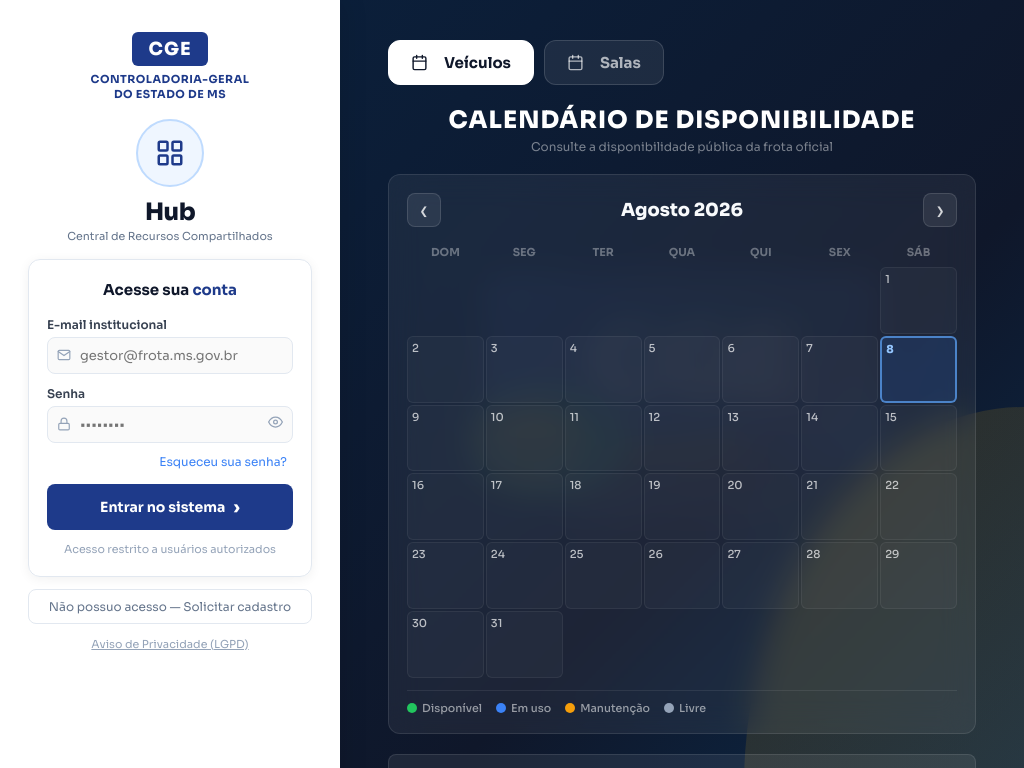
it: Login — submissão do formulário › limpa o erro ao digitar no campo de e-mail
This screenshot has width=1024, height=768.
Type "x@y.com" into the field labelled "E-mail institucional" at point(170, 355), box 47,337 -> 293,374
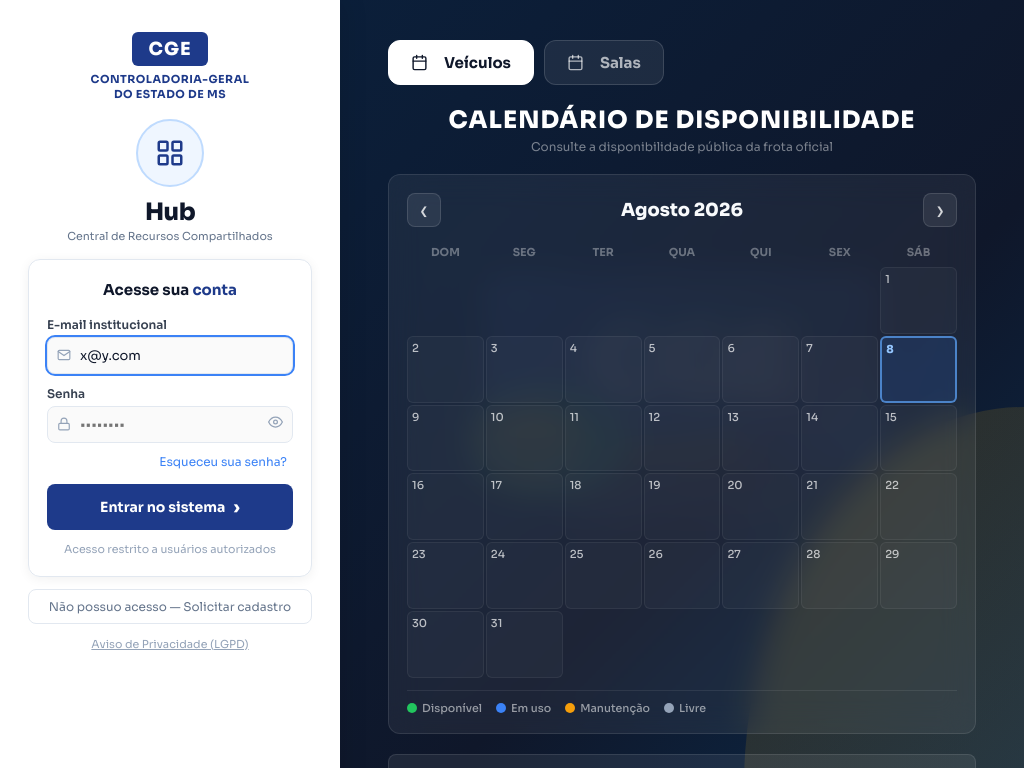
Type "wrong" into the password field labelled "Senha" at point(170, 424), box 47,406 -> 293,443
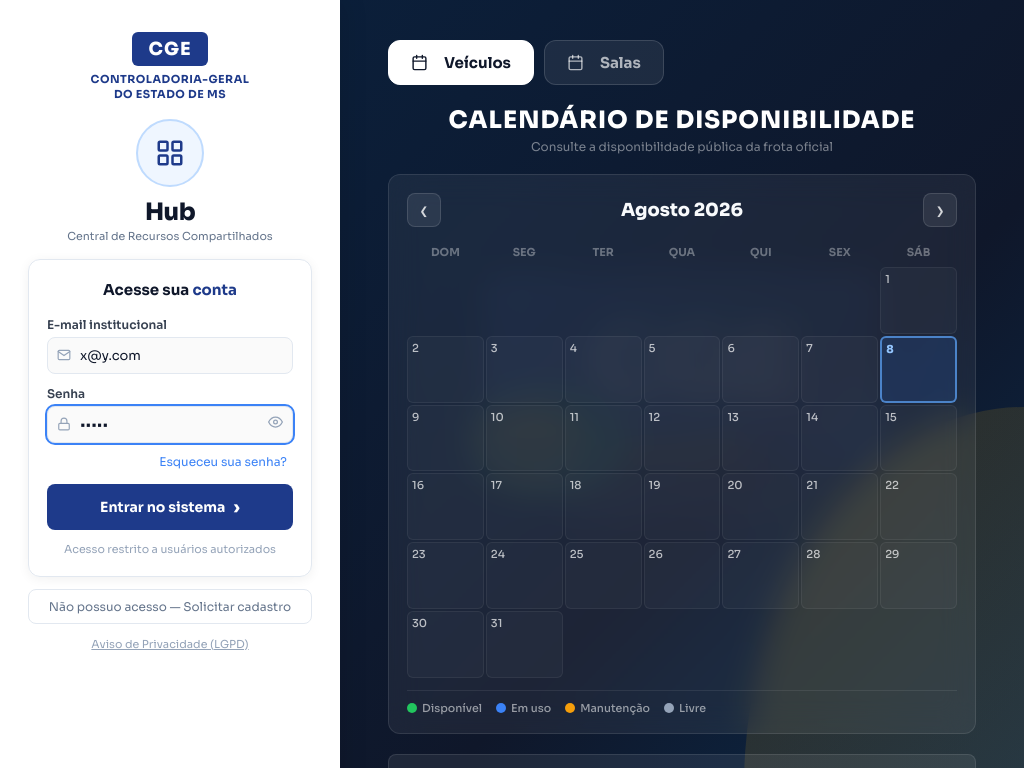
Submit the form labelled "E-mail institucional", box 47,317 -> 293,530
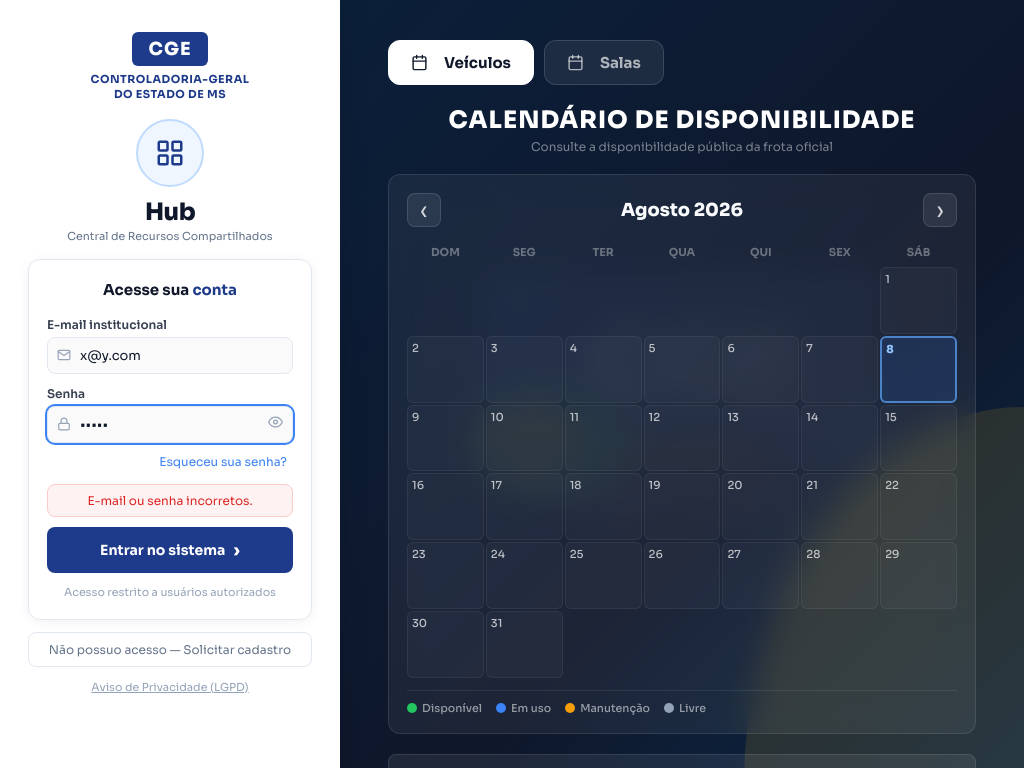
Result: the text "E-mail ou senha incorretos." is shown at 47,484 -> 293,517
Type "a" into the field labelled "E-mail institucional" at point(170, 355), box 47,337 -> 293,374
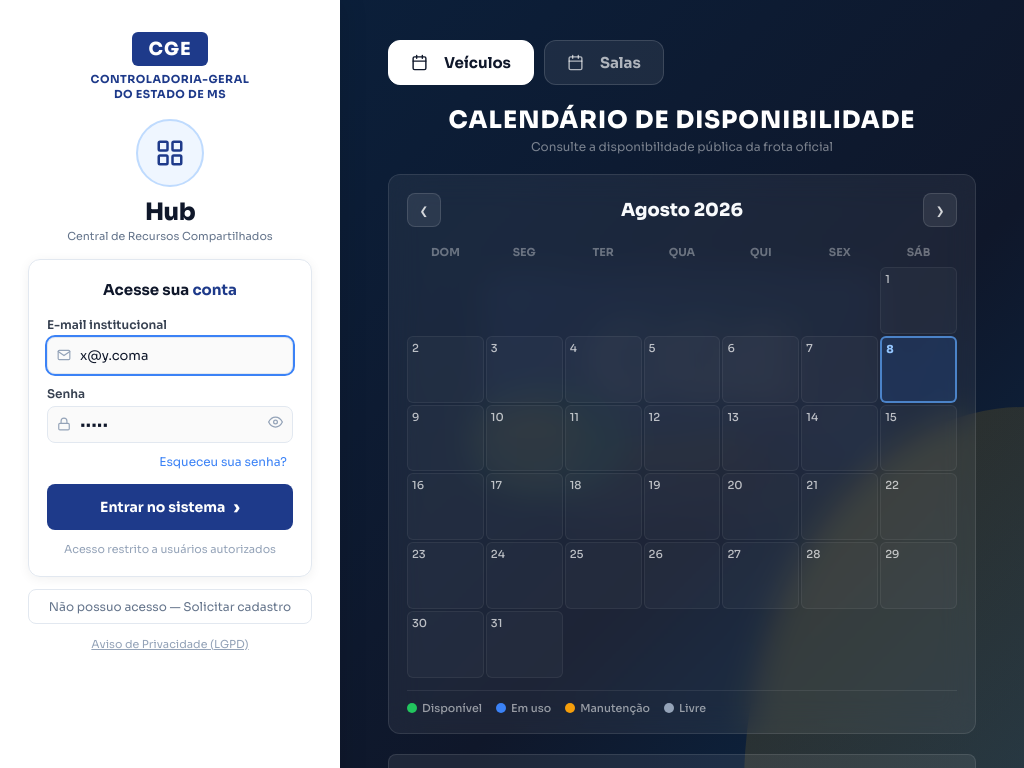
Result: the text "E-mail ou senha incorretos" is gone
